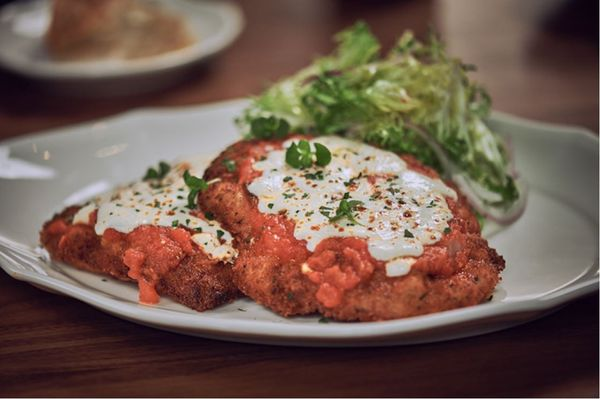curry: (234, 19, 525, 225)
sushi: (0, 2, 245, 84)
